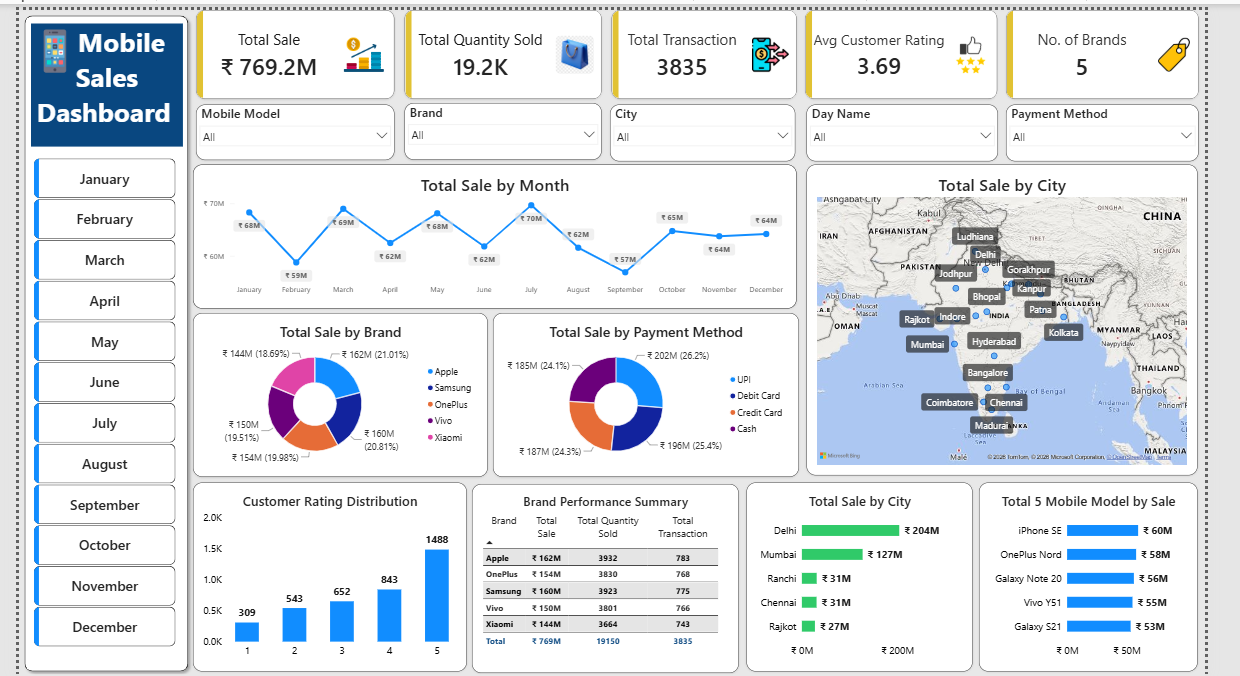

The page's visual inventory and layout, read from the dashboard file:
{"tool":"powerbi","page":{"name":"Page 1","canvas":[1920,1080],"ordinal":0},"visuals":[{"type":"cardVisual","fields":{"Data":["Sheet1.Total Sale"]},"box":[300,4,288,154],"z":0},{"type":"cardVisual","fields":{"Data":["Sheet1.Total Quantity Sold"]},"box":[599,4,294,154],"z":1000},{"type":"cardVisual","fields":{"Data":["Sheet1.Total Transaction"]},"box":[904,4,304,154],"z":2000},{"type":"cardVisual","fields":{"Data":["Sheet1.Average Customer Rating"]},"box":[1222,4,344,154],"z":3000},{"type":"cardVisual","fields":{"Data":["Sheet1.No. of Brands"]},"box":[1578,4,330,154],"z":4000},{"type":"slicer","fields":{"Values":["Mobile data.Brand"]},"box":[300,165,292,100],"z":5000},{"type":"slicer","fields":{"Values":["Mobile data.Mobile Model"]},"box":[602,165,294,100],"z":6000},{"type":"slicer","fields":{"Values":["Mobile data.City"]},"box":[904,165,307,100],"z":7000},{"type":"slicer","fields":{"Values":["Mobile data.Payment Method"]},"box":[1222,165,344,100],"z":8000},{"type":"slicer","fields":{"Values":["Mobile data.Day Name"]},"box":[1578,165,330,100],"z":9000},{"type":"lineChart","title":"Total Sale by Month","fields":{"Y":["Mobile data.Total Sale"],"Category":["Mobile data.Date.Variation.Date Hierarchy.Month"]},"box":[300,272,905,254],"z":10000},{"type":"map","title":"Total Sale by City","fields":{"Category":["Mobile data.City"],"Y":["Mobile data.Total Sale"]},"box":[1218,272,689,507],"z":11000},{"type":"donutChart","fields":{"Category":["Mobile data.Brand"],"Y":["Mobile data.Total Sale"]},"box":[300,531,445,247],"z":12000},{"type":"donutChart","title":"Transaction by Payment Method","fields":{"Category":["Mobile data.Payment Method"],"Y":["Mobile data.Total Sale"]},"box":[755,531,454,247],"z":13000},{"type":"columnChart","title":"Customer Ratings Distribution","fields":{"Category":["Mobile data.Customer Ratings"],"Y":["Mobile data.Total Transaction"]},"box":[300,786,445,283],"z":14000},{"type":"barChart","fields":{"Y":["Mobile data.Total Sale"],"Category":["Mobile data.Mobile Model"]},"box":[755,786,445,283],"z":15000},{"type":"barChart","fields":{"Category":["Mobile data.City"],"Y":["Mobile data.Total Sale"]},"box":[1209,786,306,283],"z":16000},{"type":"tableEx","fields":{"Values":["Mobile data.Brand","Mobile data.Total Sale","Mobile data.Total Transaction","Mobile data.Total Quantity Sold"]},"box":[1522,786,384,283],"z":17000},{"type":"shape","box":[5,0,291,1071],"z":18000},{"type":"advancedSlicerVisual","fields":{"Values":["Mobile data.Date.Variation.Date Hierarchy.Month"]},"box":[11,283,272,776],"z":19000},{"type":"textbox","box":[13,8,277,258],"z":20000},{"type":"image","box":[2,17,94,77],"z":21000}]}

Visuals, with their boxes on the page's 1920x1080 design canvas (x1, y1, x2, y2). These are canvas units, not pixel positions in the 1240x676 screenshot, which may show the page scaled, cropped or inside an application window:
cardVisual - Sheet1.Total Sale: [left=300, top=4, right=588, bottom=158]
cardVisual - Sheet1.Total Quantity Sold: [left=599, top=4, right=893, bottom=158]
cardVisual - Sheet1.Total Transaction: [left=904, top=4, right=1208, bottom=158]
cardVisual - Sheet1.Average Customer Rating: [left=1222, top=4, right=1566, bottom=158]
cardVisual - Sheet1.No. of Brands: [left=1578, top=4, right=1908, bottom=158]
slicer - Mobile data.Brand: [left=300, top=165, right=592, bottom=265]
slicer - Mobile data.Mobile Model: [left=602, top=165, right=896, bottom=265]
slicer - Mobile data.City: [left=904, top=165, right=1211, bottom=265]
slicer - Mobile data.Payment Method: [left=1222, top=165, right=1566, bottom=265]
slicer - Mobile data.Day Name: [left=1578, top=165, right=1908, bottom=265]
"Total Sale by Month" lineChart: [left=300, top=272, right=1205, bottom=526]
"Total Sale by City" map: [left=1218, top=272, right=1907, bottom=779]
donutChart - Mobile data.Brand x Mobile data.Total Sale: [left=300, top=531, right=745, bottom=778]
"Transaction by Payment Method" donutChart: [left=755, top=531, right=1209, bottom=778]
"Customer Ratings Distribution" columnChart: [left=300, top=786, right=745, bottom=1069]
barChart - Mobile data.Total Sale x Mobile data.Mobile Model: [left=755, top=786, right=1200, bottom=1069]
barChart - Mobile data.City x Mobile data.Total Sale: [left=1209, top=786, right=1515, bottom=1069]
tableEx - Mobile data.Brand x Mobile data.Total Sale: [left=1522, top=786, right=1906, bottom=1069]
shape: [left=5, top=0, right=296, bottom=1071]
advancedSlicerVisual - Mobile data.Date.Variation.Date Hierarchy.Month: [left=11, top=283, right=283, bottom=1059]
textbox: [left=13, top=8, right=290, bottom=266]
image: [left=2, top=17, right=96, bottom=94]
